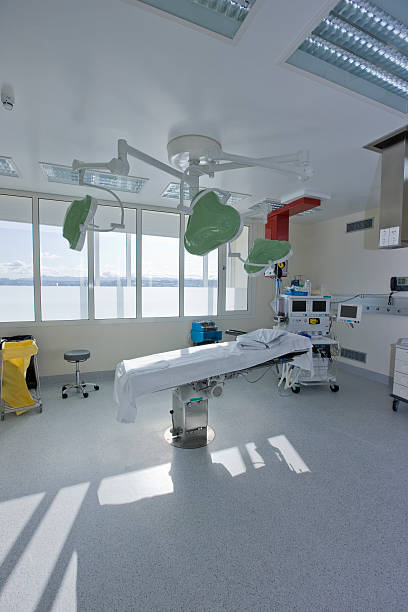bedside_monitor: (337, 301, 361, 329), (308, 300, 326, 314), (289, 300, 307, 314)
breathing_tube: (278, 361, 300, 394)
chair: (60, 349, 99, 400)
electrosurgical_unit: (190, 320, 224, 333)
medical_drawer: (390, 342, 408, 412)
operating_bed: (113, 330, 314, 449)
surgical_light: (183, 188, 245, 257), (61, 194, 98, 252), (243, 238, 294, 277)
waste_bin: (1, 335, 42, 420)
